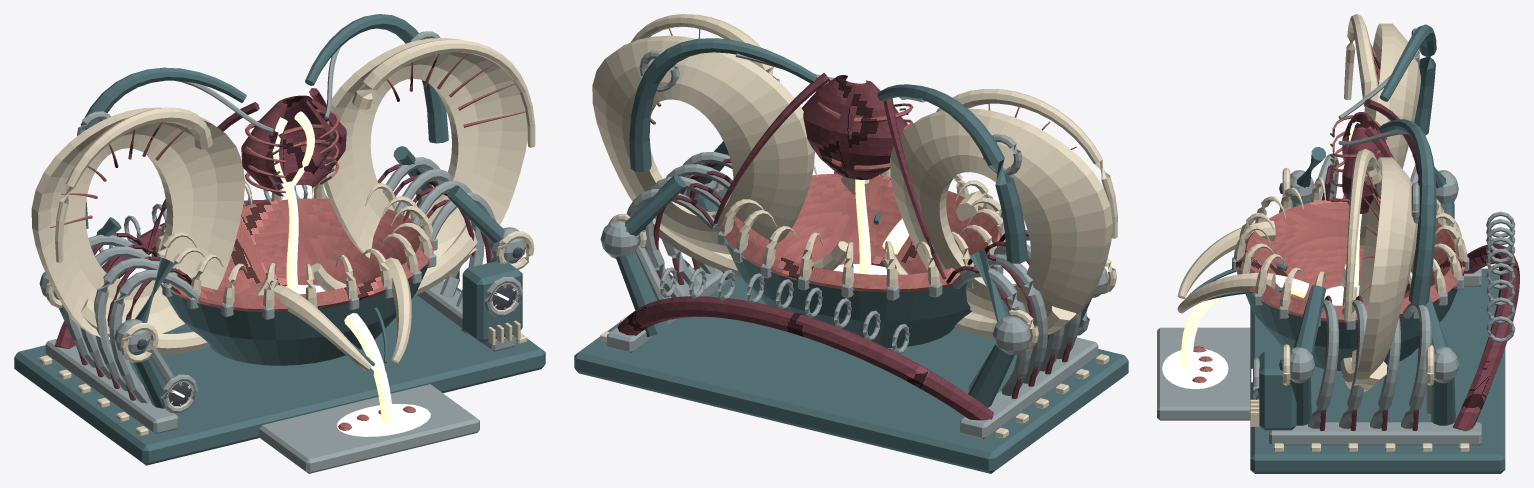
File: marrow_crucible.glb
3 renders of one model, left to right at view 1: azimuth 30°, elevation 25°; view 2: azimuth 150°, elevation 25°; view 3: azimuth 270°, elevation 25°, orthographic. The views are drawn at different scales.
Parts seen in each view (by area): view 1: marrow_crucible_warm, marrow_crucible_petrol, marrow_crucible_worn, marrow_crucible_suture, marrow_crucible_bruised, marrow_crucible_sick, marrow_crucible_deep; view 2: marrow_crucible_warm, marrow_crucible_petrol, marrow_crucible_worn, marrow_crucible_bruised, marrow_crucible_suture, marrow_crucible_sick; view 3: marrow_crucible_petrol, marrow_crucible_warm, marrow_crucible_worn, marrow_crucible_suture, marrow_crucible_bruised, marrow_crucible_sick.
Boxes of the visible parts, x1,y1,x2,y2 form: marrow_crucible_warm: [31, 38, 535, 436]; marrow_crucible_petrol: [14, 14, 545, 465]; marrow_crucible_worn: [39, 31, 526, 473]; marrow_crucible_suture: [50, 53, 525, 430]; marrow_crucible_bruised: [54, 88, 491, 400]; marrow_crucible_sick: [173, 111, 508, 436]; marrow_crucible_deep: [136, 136, 522, 406]; marrow_crucible_warm: [592, 14, 1117, 438]; marrow_crucible_petrol: [574, 38, 1128, 473]; marrow_crucible_worn: [600, 50, 1108, 439]; marrow_crucible_bruised: [617, 73, 1071, 420]; marrow_crucible_suture: [650, 28, 1076, 292]; marrow_crucible_sick: [833, 179, 909, 274]; marrow_crucible_petrol: [1188, 24, 1505, 473]; marrow_crucible_warm: [1177, 14, 1469, 451]; marrow_crucible_worn: [1157, 28, 1515, 445]; marrow_crucible_suture: [1192, 43, 1465, 382]; marrow_crucible_bruised: [1319, 98, 1519, 431]; marrow_crucible_sick: [1162, 121, 1361, 389].
Bounding box in the file's own units: 7.07 × 4.28 × 4.69.
Materials: 7 (2 with a texture image).
